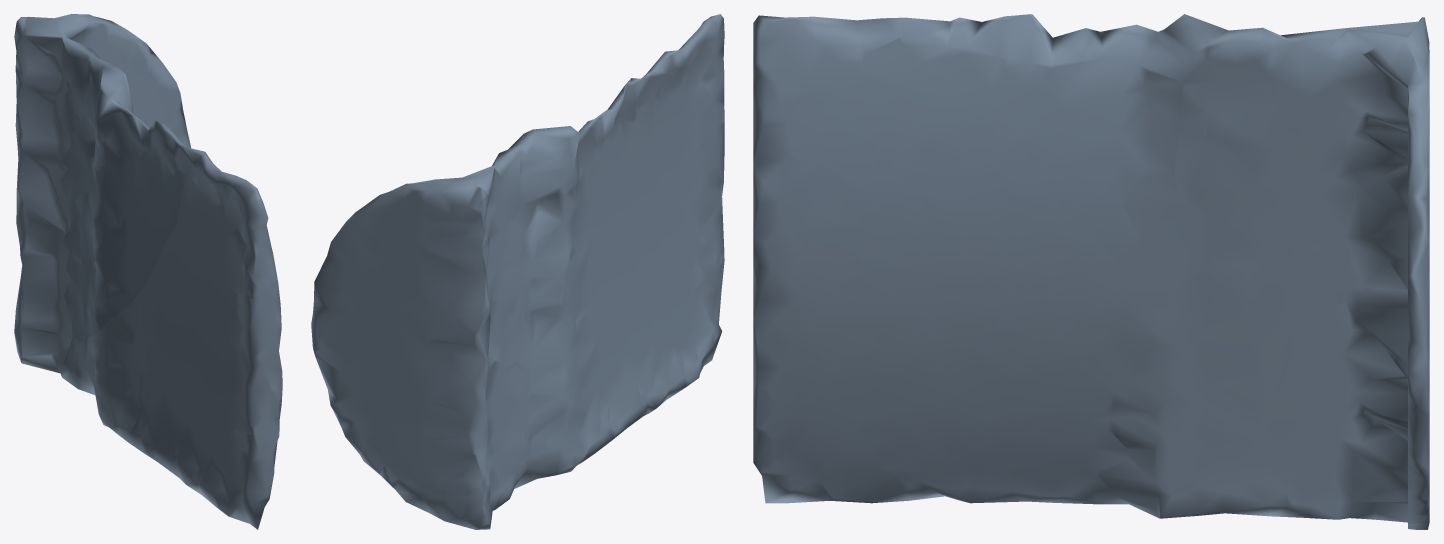
File: sample_500_orig.obj
3 views of the same model, side by side, from view 1: azimuth 30°, elevation 25°; view 2: azimuth 150°, elevation 25°; view 3: azimuth 270°, elevation 25° (orthographic). The views are drawn at different scales.
Size of the model in its own units: 0.59 by 1.1 by 1.39.
